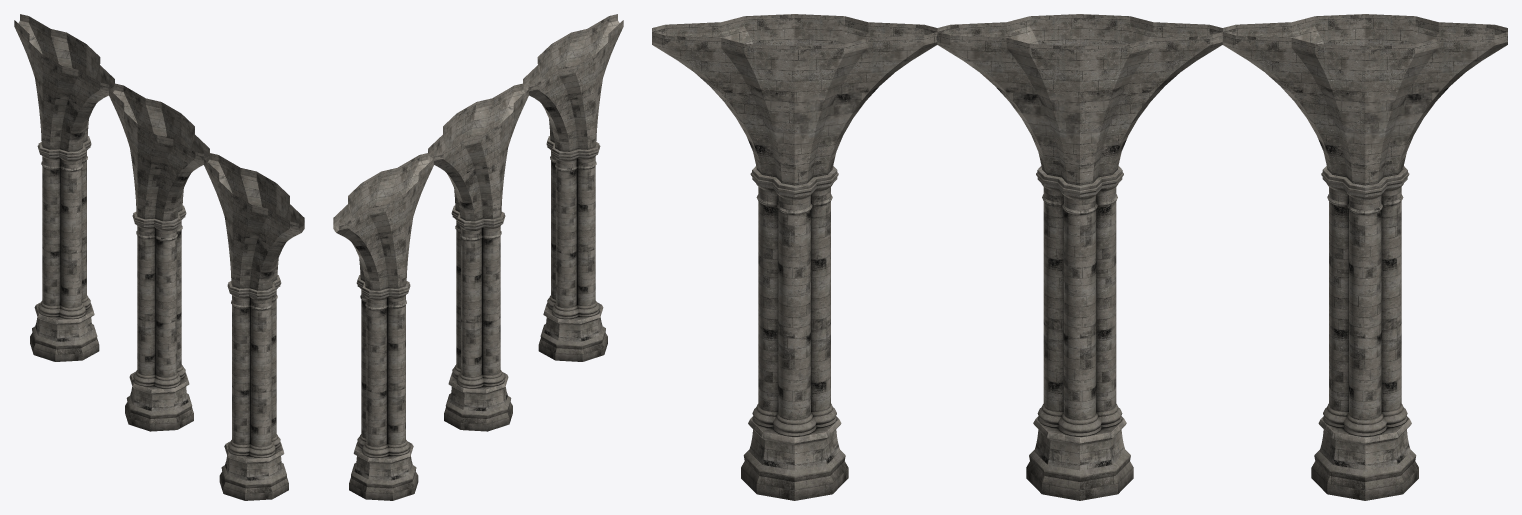
The model's file is gothic_architectural_structures.glb.
3 views of the same model, side by side, from view 1: azimuth 30°, elevation 25°; view 2: azimuth 150°, elevation 25°; view 3: azimuth 270°, elevation 25° (orthographic). The views are drawn at different scales.
Parts seen in each view (by area): view 1: GothCol_0, GothCol3_2, GothCol2_1; view 2: GothCol3_2, GothCol_0, GothCol2_1; view 3: GothCol2_1, GothCol_0, GothCol3_2.
Boxes of the visible parts, x1,y1,x2,y2 form: GothCol_0: (204,153,304,500); GothCol3_2: (14,14,114,361); GothCol2_1: (109,83,209,431); GothCol3_2: (333,153,433,500); GothCol_0: (523,14,623,361); GothCol2_1: (428,83,528,431); GothCol2_1: (937,14,1222,500); GothCol_0: (652,14,937,500); GothCol3_2: (1222,14,1507,500).
Bounding box in the file's own units: 6.6 × 30.32 × 52.47.
Materials: 2 (2 with a texture image).
